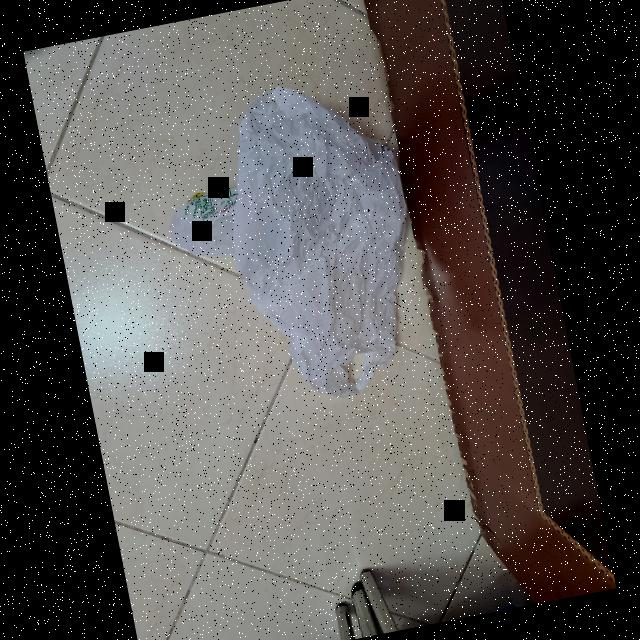plastic_bag: (162, 76, 440, 416)
